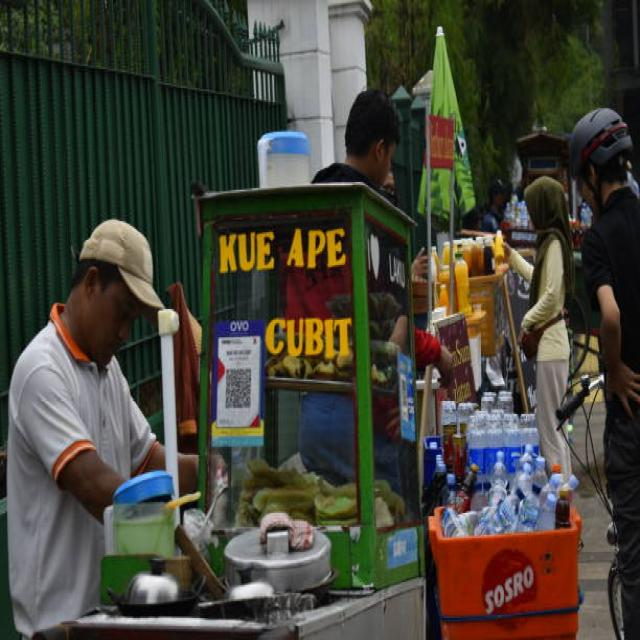Emperan: (5, 174, 465, 640)
